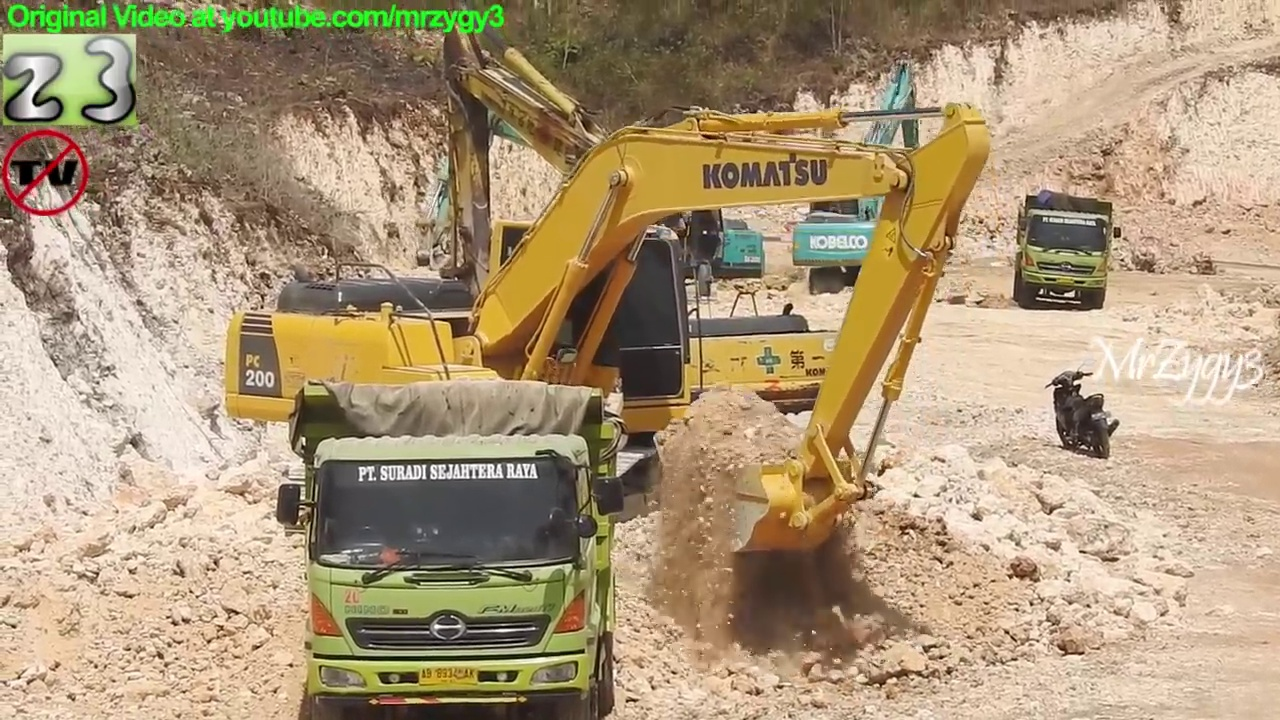excavator: (216, 96, 1002, 567), (410, 3, 884, 478), (412, 67, 774, 312), (785, 55, 957, 305)
truck: (271, 375, 632, 720), (1010, 190, 1127, 314)
